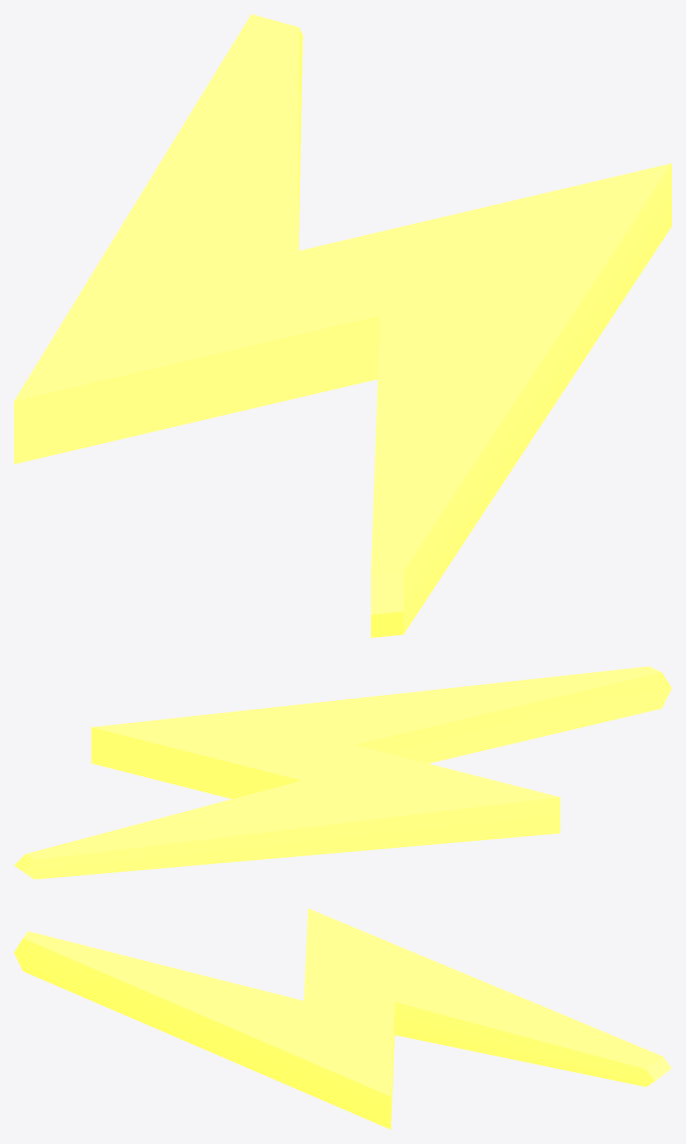
Rendered from Lightning-Bolt_small.glb.
The picture shows the model from 3 angles, top to bottom: view 1: azimuth 30°, elevation 25°; view 2: azimuth 150°, elevation 25°; view 3: azimuth 270°, elevation 25°; orthographic projection. The views are drawn at different scales.
Parts seen in each view (by area): view 1: Lightning-Bolt_small; view 2: Lightning-Bolt_small; view 3: Lightning-Bolt_small.
Boxes of the visible parts, x1=… form: Lightning-Bolt_small: x1=14, y1=14, x2=671, y2=637; Lightning-Bolt_small: x1=14, y1=666, x2=671, y2=879; Lightning-Bolt_small: x1=14, y1=908, x2=671, y2=1129.
Size of the model in its own units: 0.0461 by 0.00377 by 0.068.
